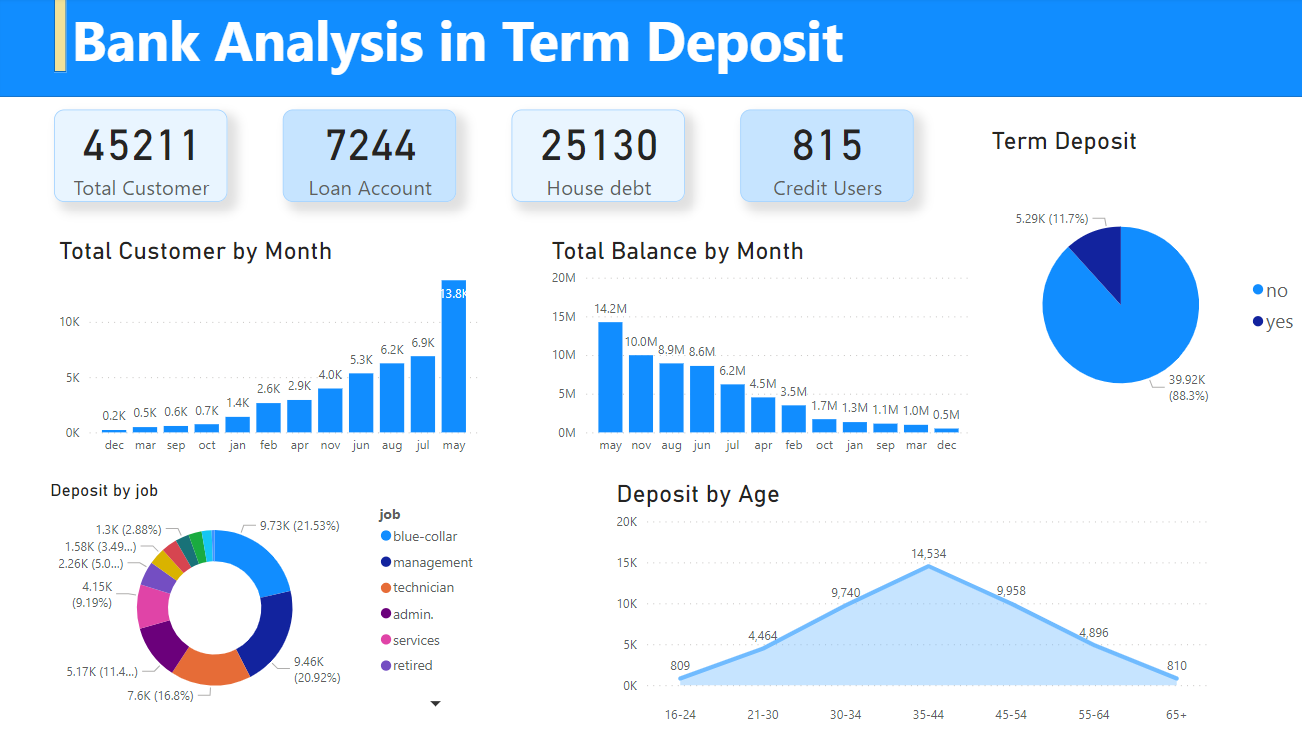

The page's visual inventory and layout, read from the dashboard file:
{"tool":"powerbi","page":{"name":"overview by deposit","canvas":[1280,720],"ordinal":0},"visuals":[{"type":"card","fields":{"Values":["CountNonNull(Raw.y)"]},"box":[53.8,110,169.9,90.5],"z":0},{"type":"shape","box":[0,0,1279.9,97.8],"z":1000},{"type":"textbox","box":[66,0,808,88],"z":2000},{"type":"shape","box":[53.8,0,12.2,73.3],"z":3000},{"type":"card","fields":{"Values":["Raw.Total Loan"]},"box":[277.5,110,169.9,90.5],"z":4000},{"type":"card","fields":{"Values":["Raw.total housing"]},"box":[501.2,110,169.9,90.5],"z":5000},{"type":"card","fields":{"Values":["Raw.total credit"]},"box":[724.9,110,169.9,90.5],"z":6000},{"type":"pieChart","title":"Term Deposit","fields":{"Category":["Raw.y"],"Y":["CountNonNull(Raw.y)"]},"box":[965.7,125.9,314.2,321.5],"z":7000},{"type":"columnChart","fields":{"Y":["CountNonNull(Raw.y)"],"Category":["Raw.month"]},"box":[53.8,233.5,420.5,222.5],"z":8000},{"type":"columnChart","fields":{"Category":["Raw.month"],"Y":["Sum(Raw.balance)"]},"box":[535.4,233.5,420.5,222.5],"z":9000},{"type":"donutChart","fields":{"Y":["CountNonNull(Raw.y)"],"Category":["Raw.job"]},"box":[45.2,471.9,438.8,232.3],"z":10000},{"type":"stackedAreaChart","fields":{"Category":["Raw.age_category"],"Y":["CountNonNull(Raw.y)"]},"box":[599,471.9,590.4,248.1],"z":11000}]}

Visuals, with their boxes in screenshot pixels (x1, y1, x2, y2), scaled from the page's 1280x720 canvas onto the 1302x732 screenshot:
card - CountNonNull(Raw.y): x1=55 y1=112 x2=228 y2=204
shape: x1=0 y1=0 x2=1301 y2=99
textbox: x1=67 y1=0 x2=889 y2=89
shape: x1=55 y1=0 x2=67 y2=75
card - Raw.Total Loan: x1=282 y1=112 x2=455 y2=204
card - Raw.total housing: x1=510 y1=112 x2=683 y2=204
card - Raw.total credit: x1=737 y1=112 x2=910 y2=204
"Term Deposit" pieChart: x1=982 y1=128 x2=1301 y2=455
columnChart - CountNonNull(Raw.y) x Raw.month: x1=55 y1=237 x2=482 y2=464
columnChart - Raw.month x Sum(Raw.balance): x1=545 y1=237 x2=972 y2=464
donutChart - CountNonNull(Raw.y) x Raw.job: x1=46 y1=480 x2=492 y2=716
stackedAreaChart - Raw.age_category x CountNonNull(Raw.y): x1=609 y1=480 x2=1210 y2=731
